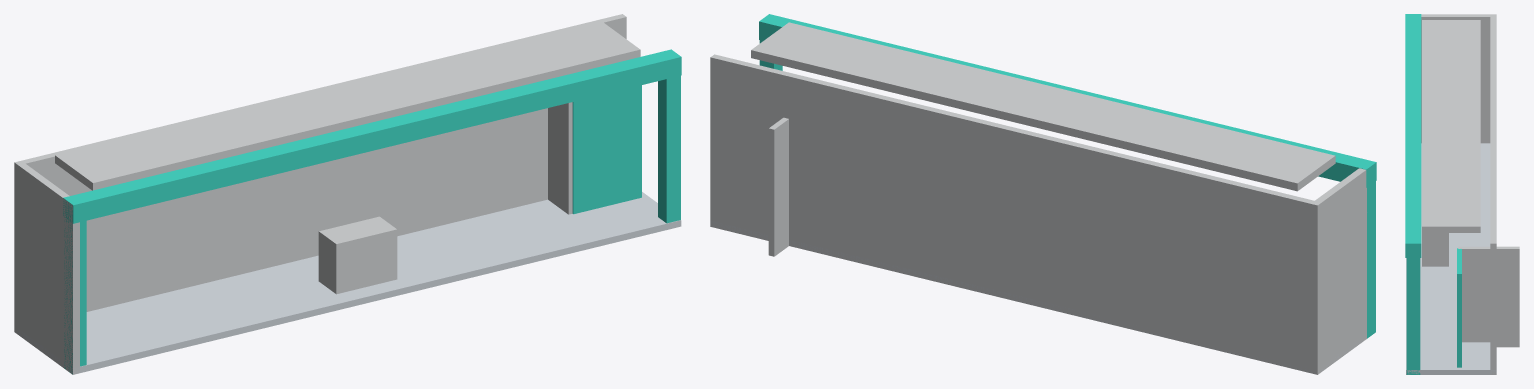
3 renders of one model, left to right at view 1: azimuth 30°, elevation 25°; view 2: azimuth 150°, elevation 25°; view 3: azimuth 270°, elevation 25°, orthographic. The views are drawn at different scales.
Visible parts, largest first — view 1: Exhibition Booth Concept; view 2: Exhibition Booth Concept; view 3: Exhibition Booth Concept.
Boxes of the visible parts, x1,y1,x2,y2 form: Exhibition Booth Concept: [14, 14, 681, 374]; Exhibition Booth Concept: [710, 14, 1376, 374]; Exhibition Booth Concept: [1405, 14, 1519, 374].
Size of the model in its own units: 12 by 3.34 by 2.52.
